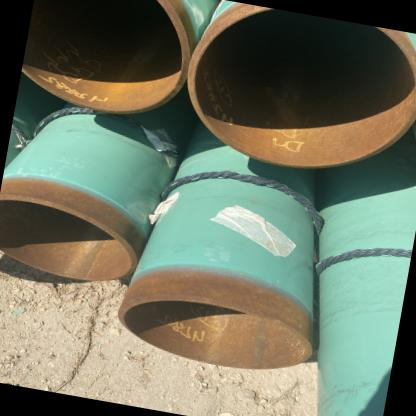clean: (182, 280, 241, 330)
